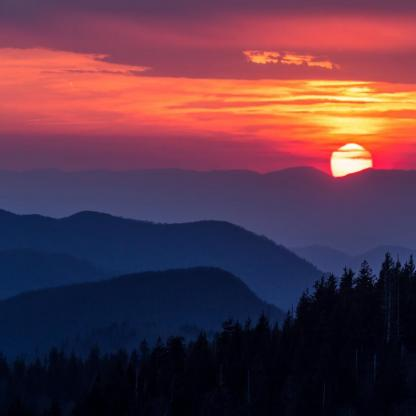other: (273, 73, 397, 187)
